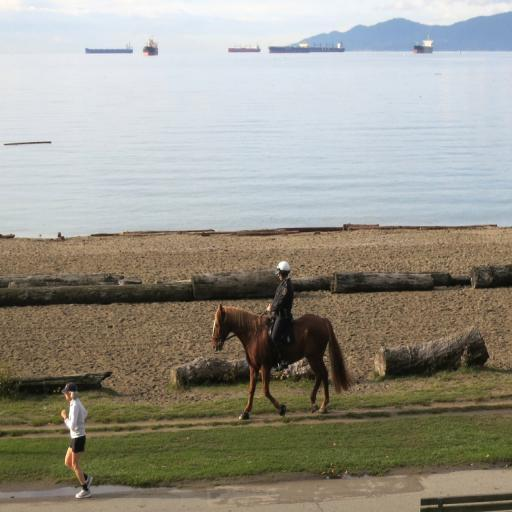horse: (212, 304, 360, 425)
